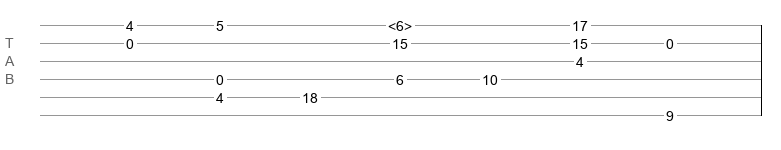0: (126, 36, 134, 46), (216, 72, 224, 82), (666, 36, 674, 46)
10: (482, 72, 498, 82)
15: (392, 36, 408, 46), (572, 36, 588, 46)
17: (572, 18, 588, 28)
18: (302, 90, 318, 100)
4: (126, 18, 134, 28), (216, 90, 224, 100), (576, 54, 584, 64)
5: (216, 18, 224, 28)
6: (396, 72, 404, 82)
9: (666, 108, 674, 118)
harmonic: (388, 18, 412, 28)
